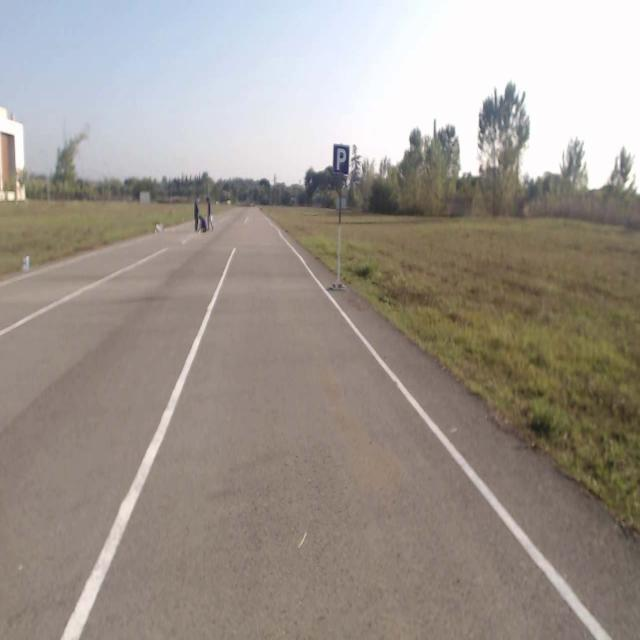park: (334, 145, 348, 174)
